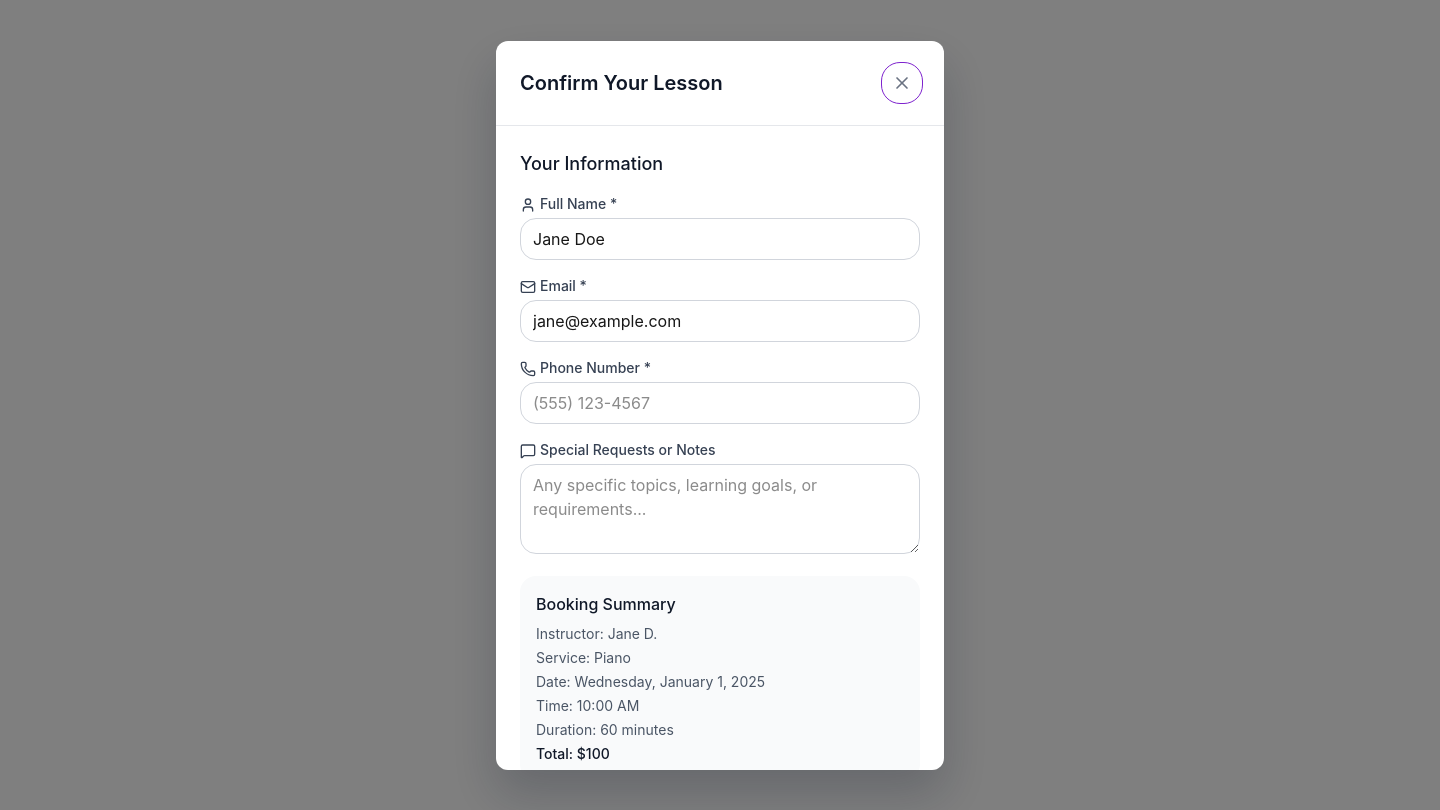
it: BookingModal › handleBookingSubmit defensive validation (lines 190-197) › button stays disabled when name is cleared after being filled
Type "555-1111" into the field labelled "Phone Number *" at point(720, 402), box left=520, top=382, right=920, bottom=424
(page scrolled)
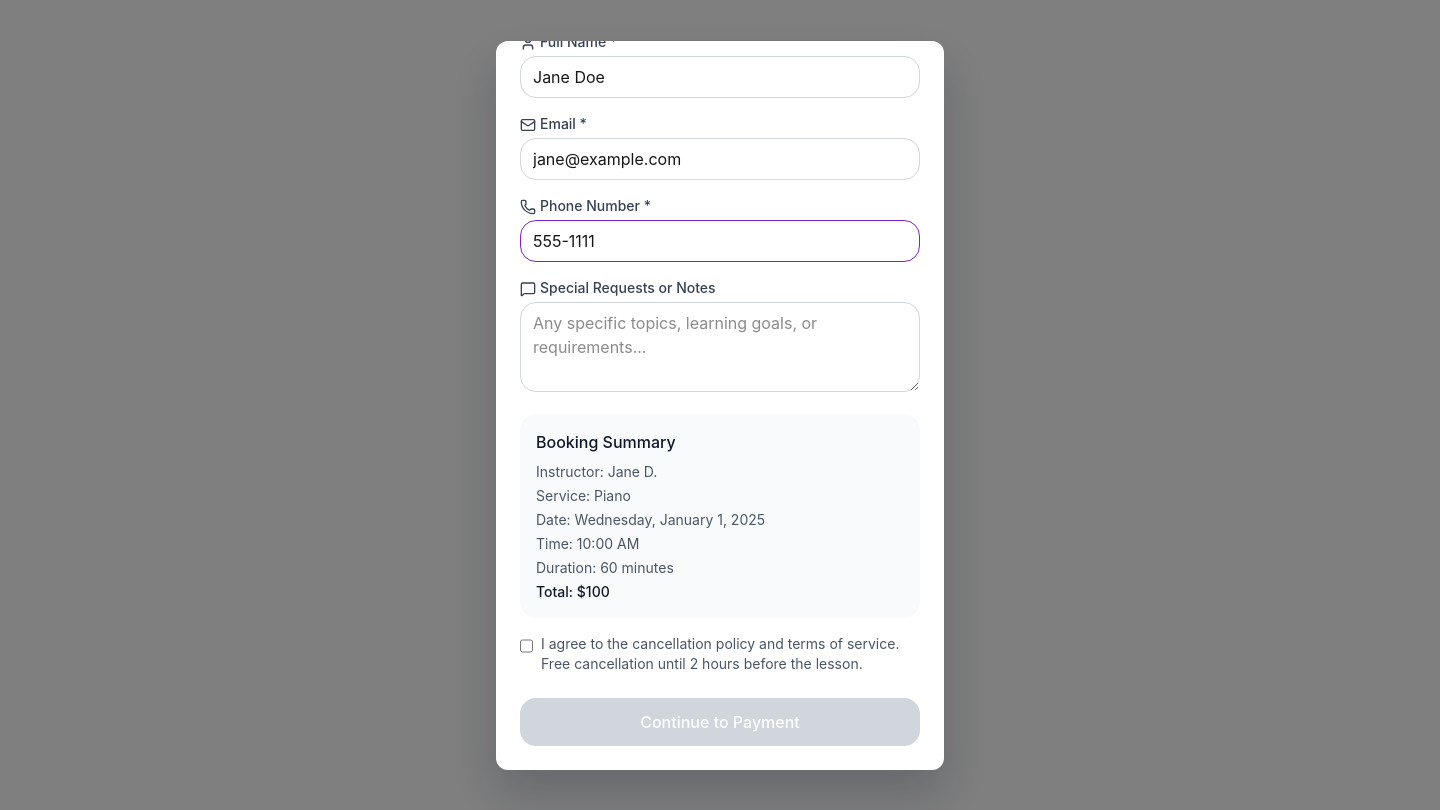
Click the checkbox at point(526, 646), box left=520, top=638, right=533, bottom=654
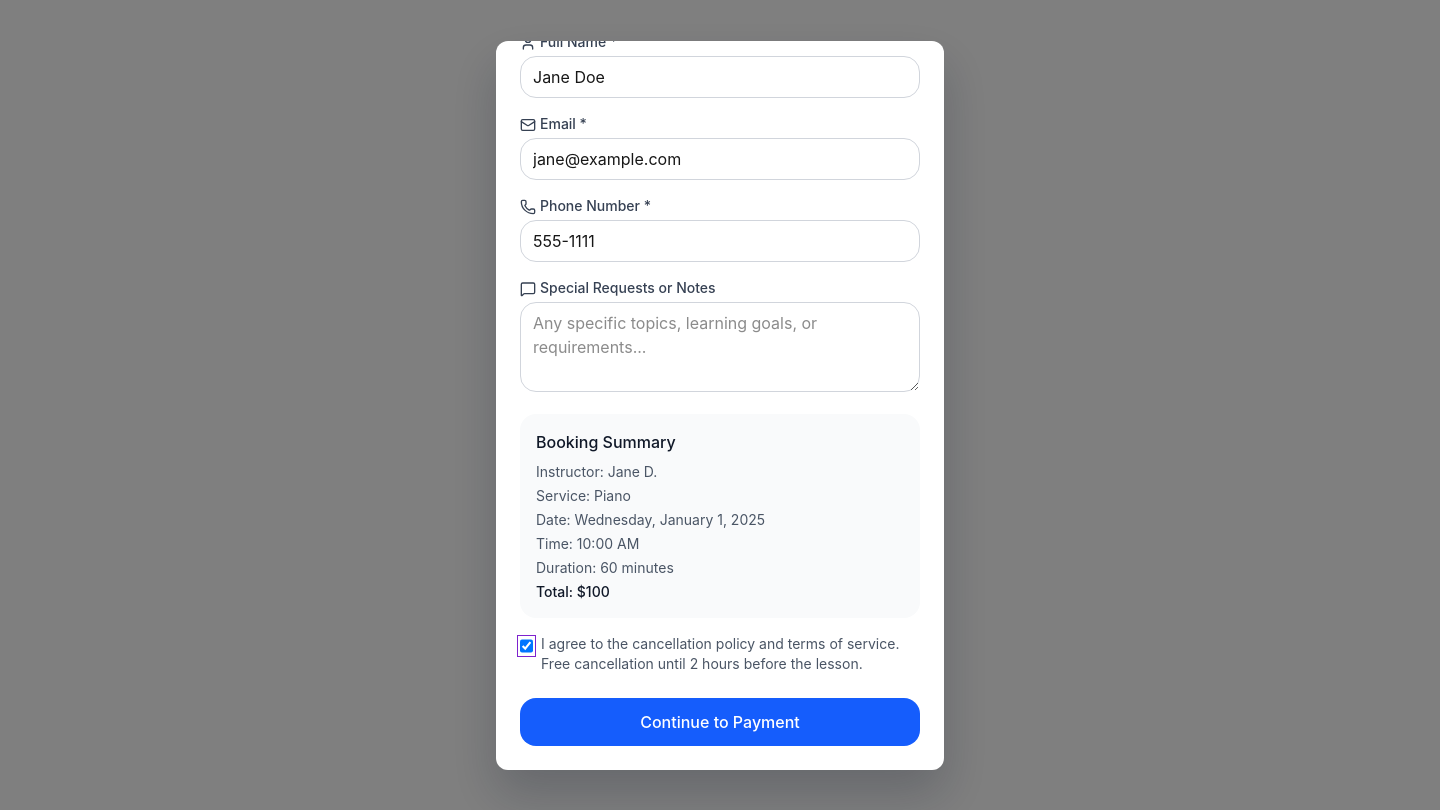
# Now clear the name
Clear the field labelled "Full Name *" at point(720, 76), box left=520, top=56, right=920, bottom=98
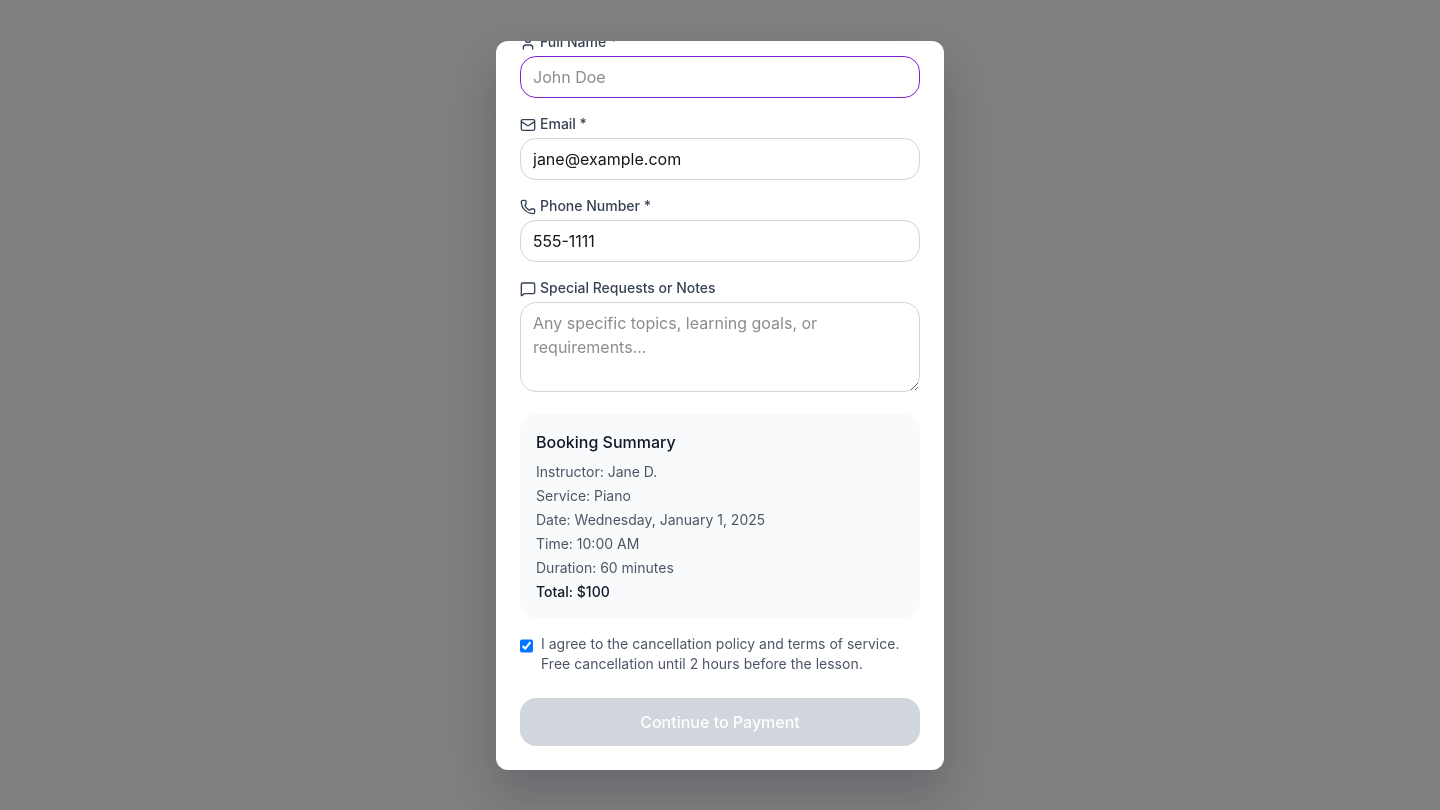
Expected: the button "Continue to Payment" is disabled, left=520, top=698, right=920, bottom=746
